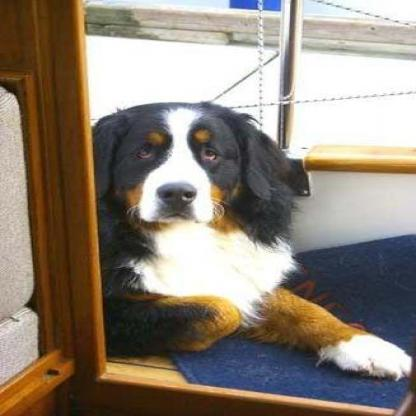Greater_Swiss_Mountain_dog: (89, 100, 412, 378)
